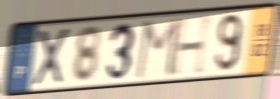3: (104, 19, 140, 84)
8: (71, 24, 103, 86)
9: (214, 11, 245, 76)
H: (170, 13, 216, 78)
M: (133, 16, 182, 81)
X: (31, 26, 72, 89)
